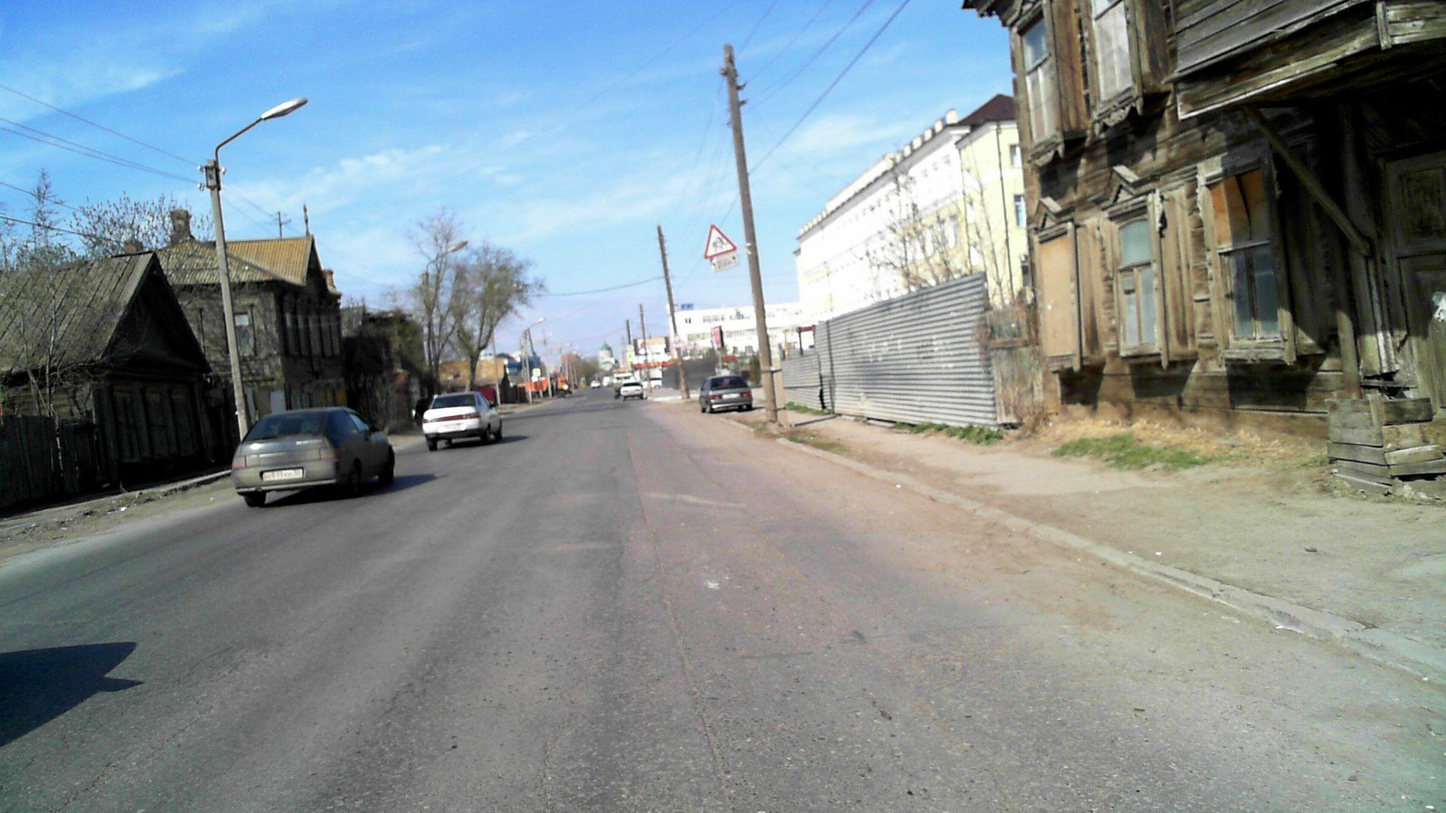road_sign: (701, 221, 740, 262)
